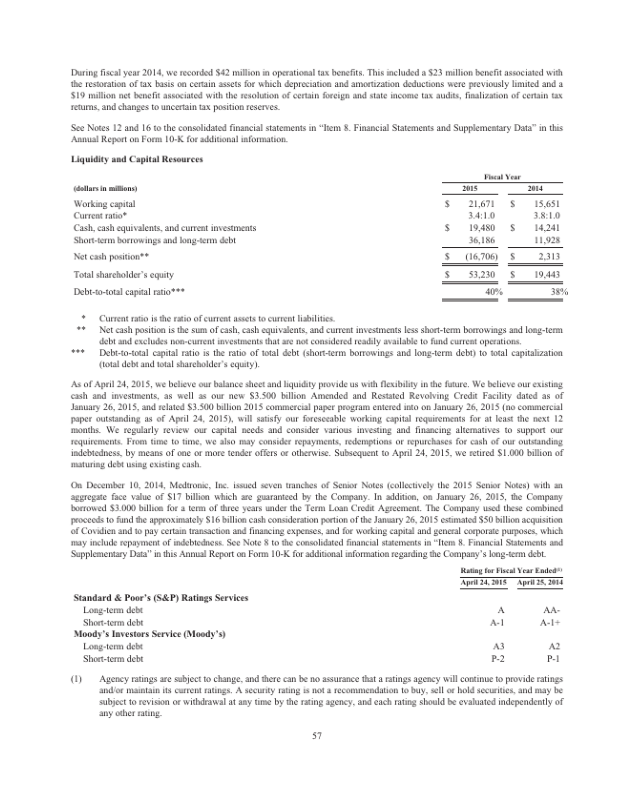table: (437, 168, 572, 310)
